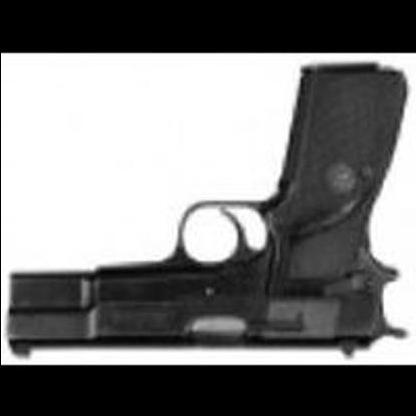weapon: (7, 62, 409, 362)
